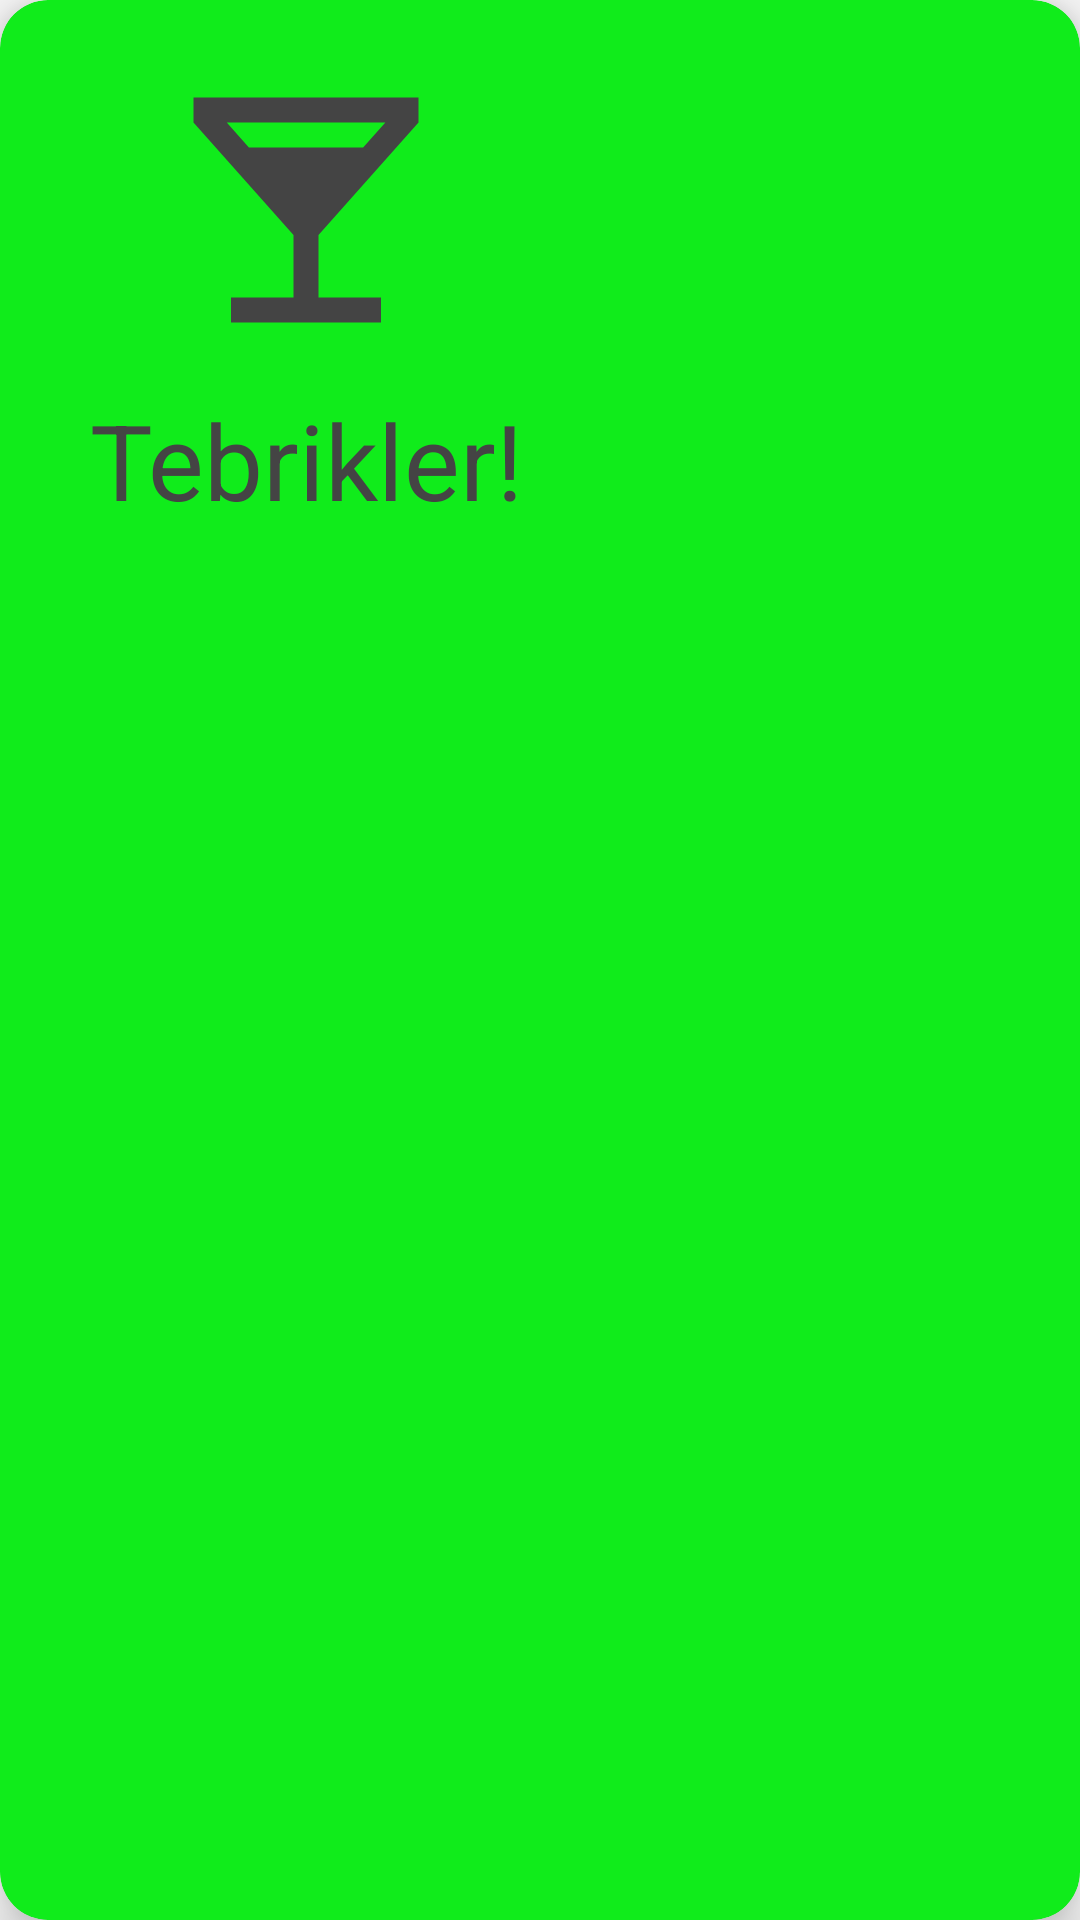

Screen size 1080x1920. Icon name, then its box in pixels as (x1, y1, x2, y2):
local bar: (193, 97, 419, 323)
